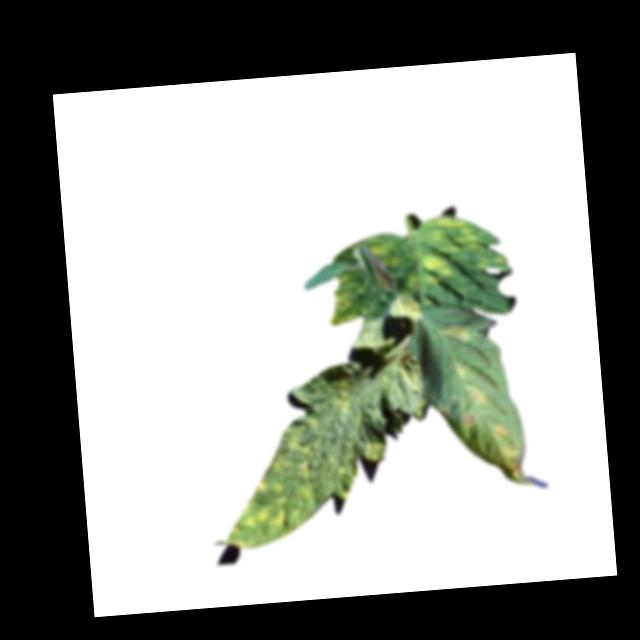Leaf_Mold: (216, 416, 327, 552), (412, 211, 509, 288), (324, 287, 364, 328), (495, 445, 525, 480), (389, 293, 424, 321), (462, 380, 494, 408), (442, 320, 473, 348), (327, 389, 356, 417), (448, 357, 471, 380), (493, 422, 511, 443)
